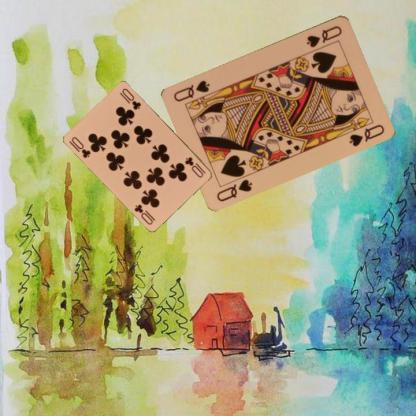10c: (182, 154, 207, 179), (69, 134, 92, 160)
Qs: (213, 176, 254, 203), (304, 22, 343, 48)
